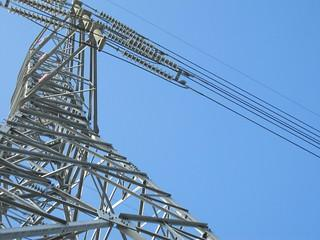power_tower: (0, 0, 218, 240)
